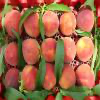Peach leaf: (11, 28, 25, 70), (19, 6, 39, 35), (34, 54, 47, 88), (55, 36, 64, 85), (59, 84, 87, 99), (38, 12, 48, 46), (45, 3, 74, 14), (25, 88, 49, 100), (0, 5, 19, 18), (5, 88, 26, 99), (72, 28, 94, 38)
